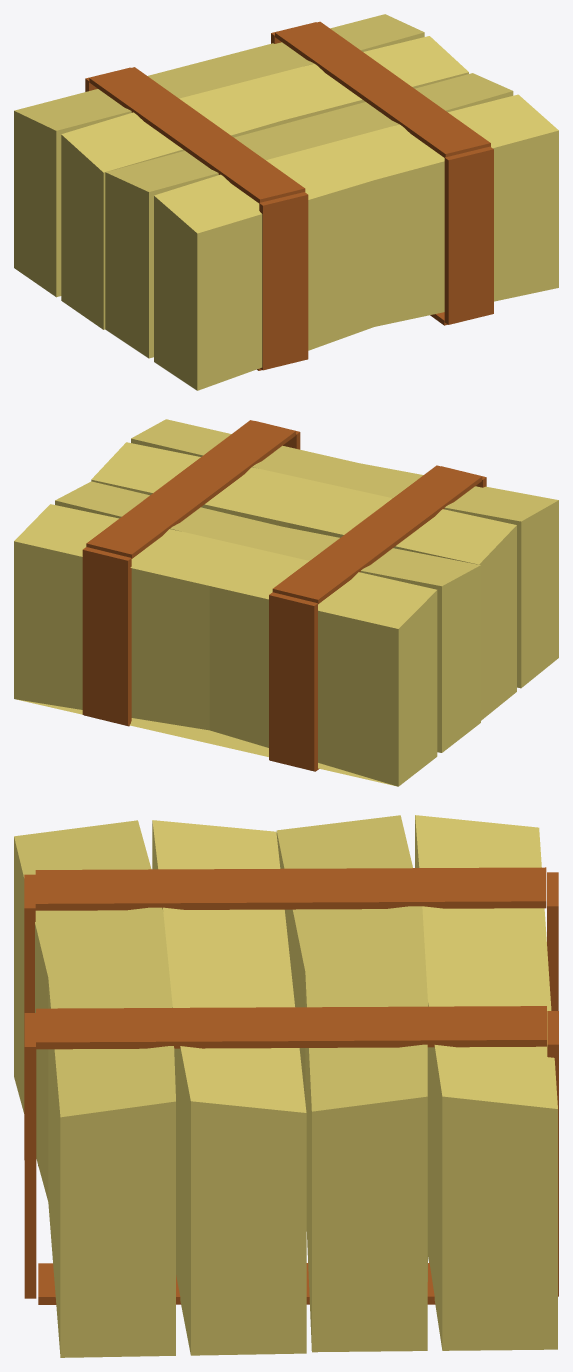
Rendered from straw.fbx.
3 renders of one model, top to bottom at view 1: azimuth 30°, elevation 25°; view 2: azimuth 150°, elevation 25°; view 3: azimuth 270°, elevation 25°, orthographic. The views are drawn at different scales.
Visible parts, largest first — view 1: straw; view 2: straw; view 3: straw.
Part boxes in pixels (x1,y1,x2,y2): straw: [14, 14, 558, 390]; straw: [14, 419, 558, 786]; straw: [14, 815, 558, 1357].
Size of the model in its own units: 246 by 104 by 196.
